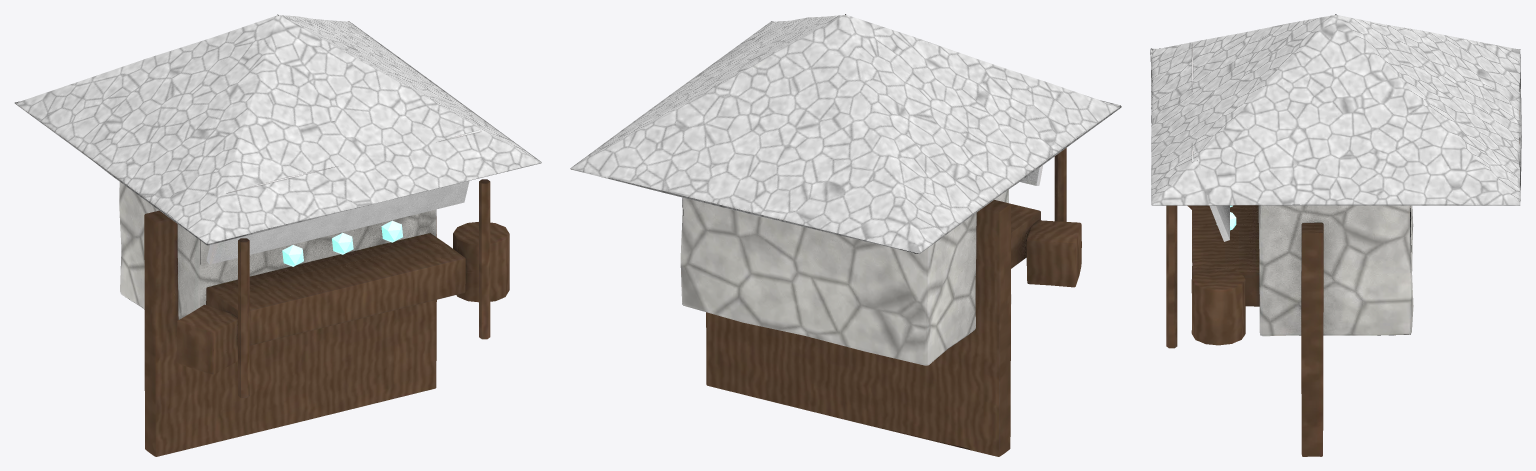
The model's file is shop.glb.
3 renders of one model, left to right at view 1: azimuth 30°, elevation 25°; view 2: azimuth 150°, elevation 25°; view 3: azimuth 270°, elevation 25°, orthographic. The views are drawn at different scales.
Parts seen in each view (by area): view 1: body, glow; view 2: body; view 3: body.
Boxes of the visible parts, bbox=[...] form: body: bbox=[14, 14, 541, 456]; glow: bbox=[282, 220, 402, 266]; body: bbox=[570, 14, 1121, 456]; body: bbox=[1150, 14, 1521, 456].
Bounding box in the file's own units: 4.74 × 5.35 × 4.76.
Materials: 2 (1 with a texture image).
